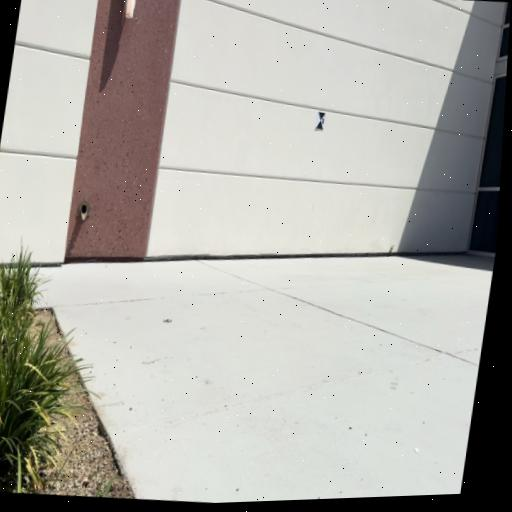target0: (316, 111, 327, 130)
